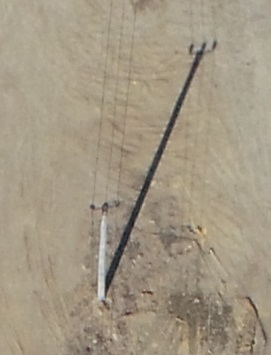opora: (84, 196, 149, 302)
